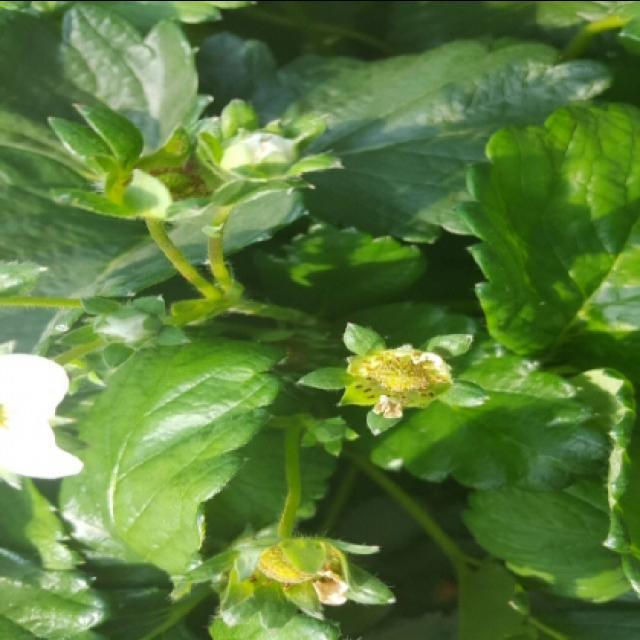Blossom Blight: (351, 342, 453, 419)
